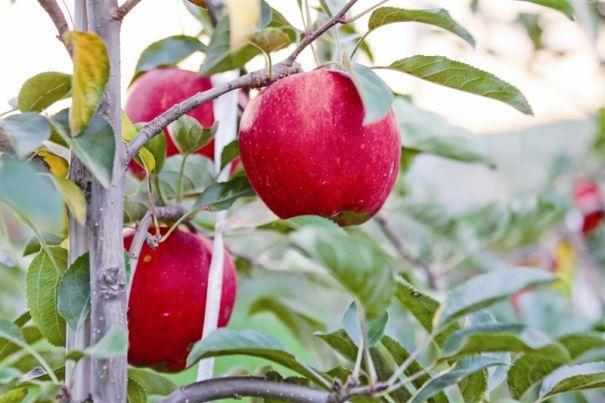apple: (236, 68, 403, 227), (120, 228, 237, 371), (127, 69, 218, 179)
